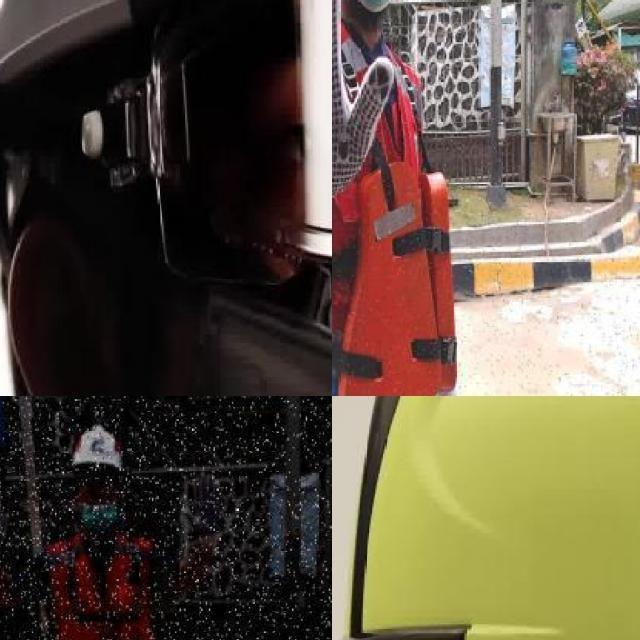apron: (332, 0, 395, 234), (180, 472, 222, 552), (0, 484, 9, 564)
